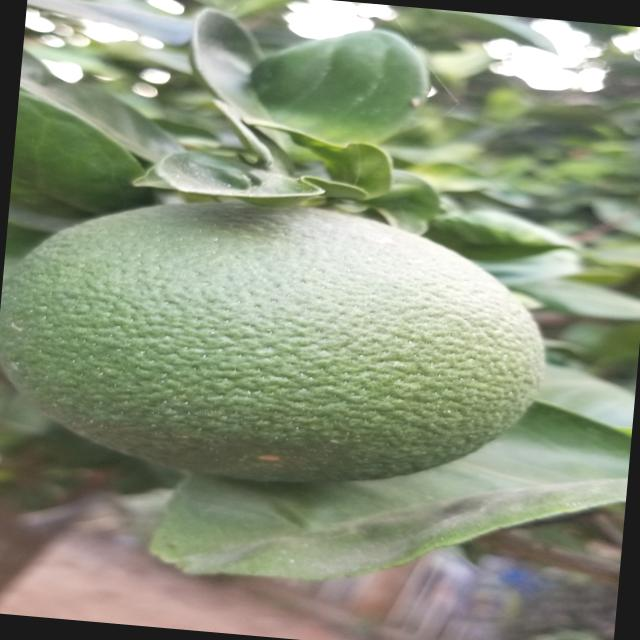Unripe: (0, 178, 570, 511)
